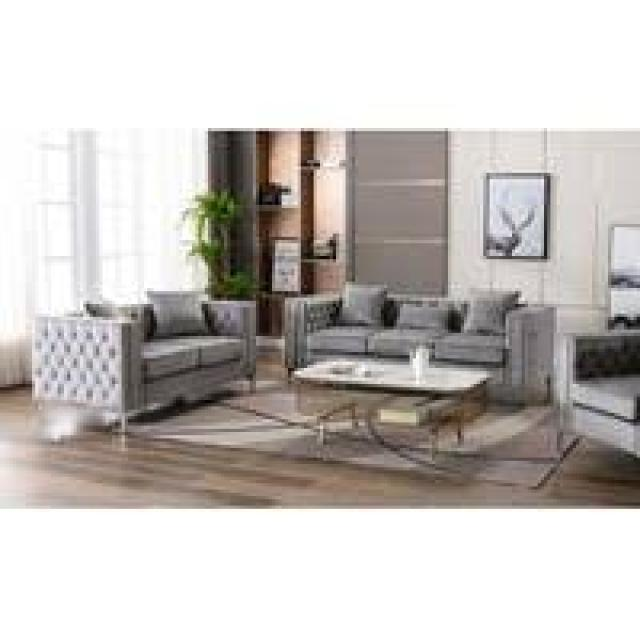Chair: (560, 323, 640, 467)
Sofa: (26, 288, 261, 431), (282, 289, 550, 404)
Table: (293, 348, 488, 453)
